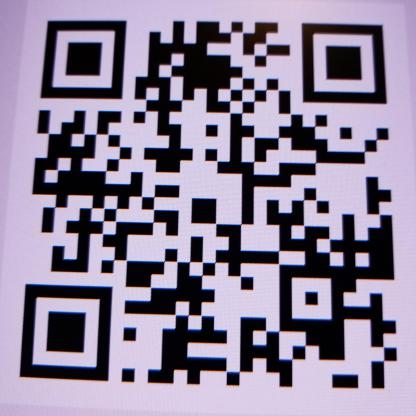qr: (18, 16, 406, 398)
